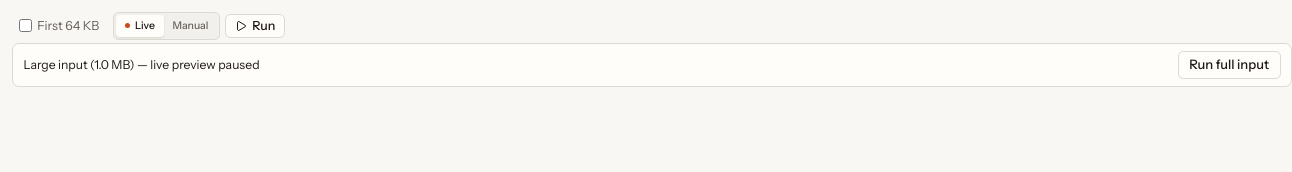
it: LargeInputBanner › shows the paused message, and its Run button actually runs the full input
Expected: the message shows "Large input (1.0 MB) — live preview paused", [12,43,1291,87]
What coordinates should you click on to do the following:
click the button "Run full input"
I would click on:
 (1229, 65)
Its box is [1178,51,1280,79].
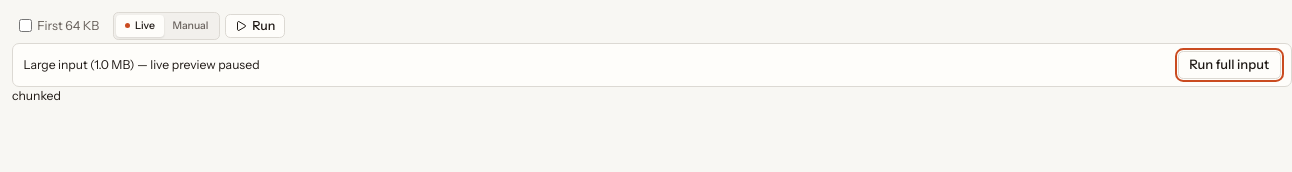
Expected: the message shows "live preview paused", [150,57,260,72]
Now the text with test id "run" reads "chunked", box [12,88,61,103]
